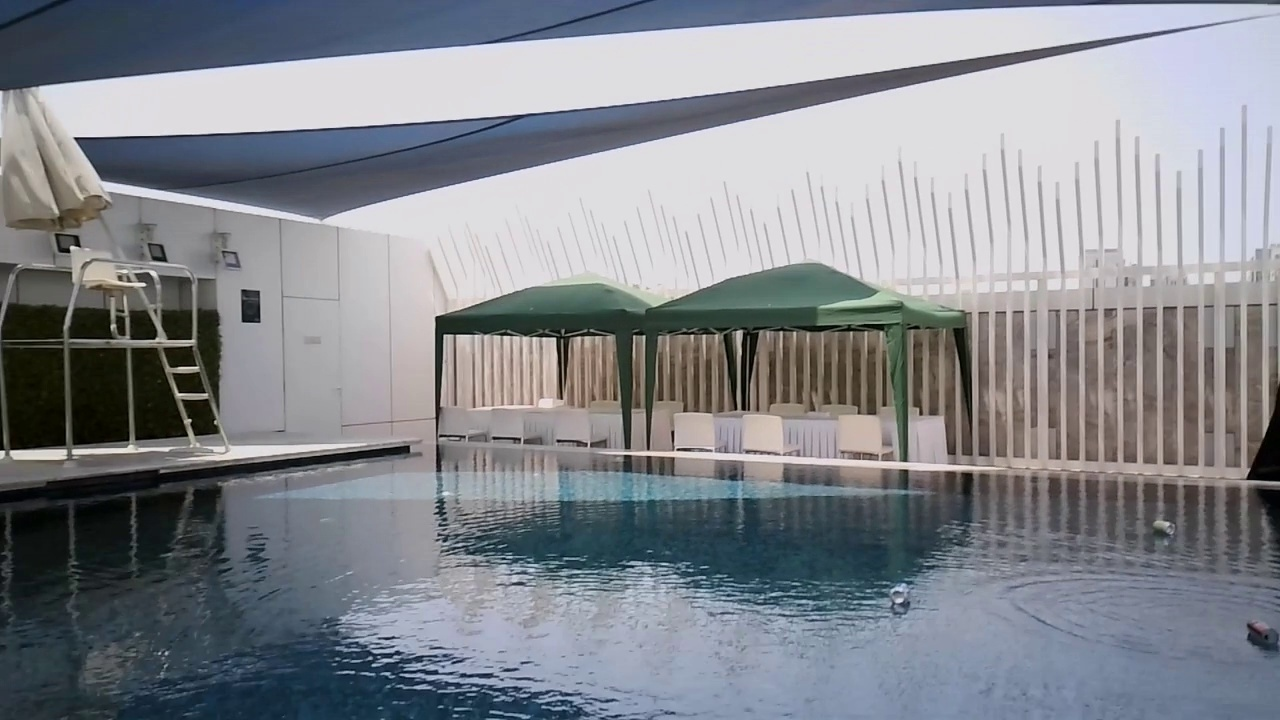debris: (1243, 615, 1278, 652), (887, 577, 911, 609), (1152, 514, 1178, 540)
